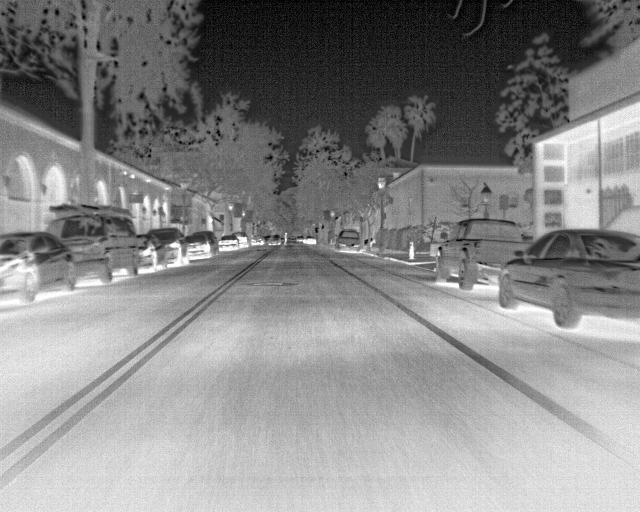bicycle: (498, 229, 639, 328), (435, 217, 533, 291), (43, 214, 138, 283), (0, 230, 78, 301), (145, 227, 189, 267), (134, 232, 166, 272), (184, 232, 212, 258), (334, 229, 361, 251), (230, 232, 250, 251), (218, 235, 240, 251), (266, 233, 282, 248), (248, 235, 265, 248), (301, 234, 318, 246)
empty: (282, 229, 290, 248)
